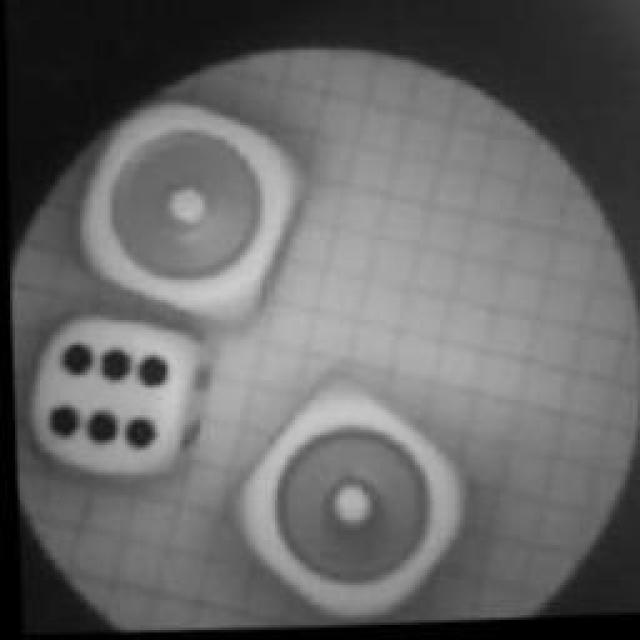dice_1: (215, 362, 480, 632), (60, 85, 315, 337)
dice_6: (19, 306, 211, 492)
